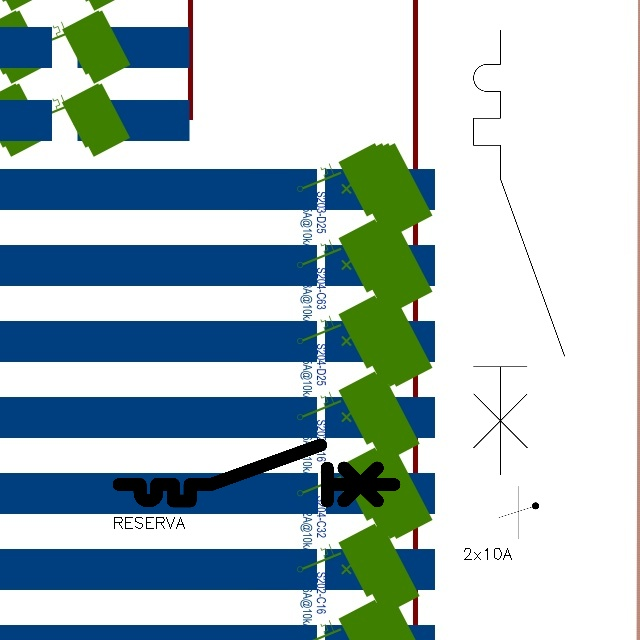interruptor_termomagnetico: (462, 19, 576, 486), (112, 438, 401, 508)
